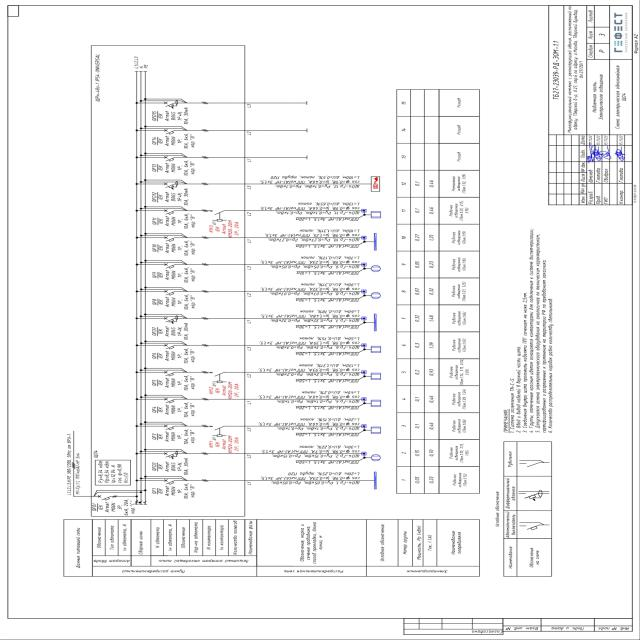-: (158, 212, 196, 230), (98, 498, 136, 516), (158, 132, 196, 150), (158, 294, 196, 312), (158, 348, 196, 366), (158, 160, 196, 178), (159, 240, 196, 258), (158, 374, 195, 392), (159, 428, 195, 446), (159, 267, 195, 285), (159, 483, 197, 500), (158, 402, 196, 419), (158, 456, 190, 476), (158, 107, 190, 125), (158, 322, 190, 340), (158, 188, 190, 205), (216, 380, 241, 400), (215, 435, 240, 454), (215, 219, 240, 238), (93, 448, 99, 458)
ITU: (217, 434, 223, 438), (217, 380, 223, 384)
KM: (209, 209, 226, 222), (209, 424, 226, 430), (209, 371, 226, 377)
QF: (162, 263, 176, 270), (162, 289, 176, 296), (162, 343, 176, 350), (162, 370, 176, 377), (164, 397, 178, 404), (163, 424, 177, 431), (162, 479, 176, 486), (163, 128, 177, 135), (162, 209, 176, 216), (162, 237, 176, 243), (97, 495, 111, 501), (164, 156, 178, 162)
QFD: (163, 99, 179, 109), (162, 450, 178, 459), (162, 315, 178, 324), (163, 181, 179, 190)
